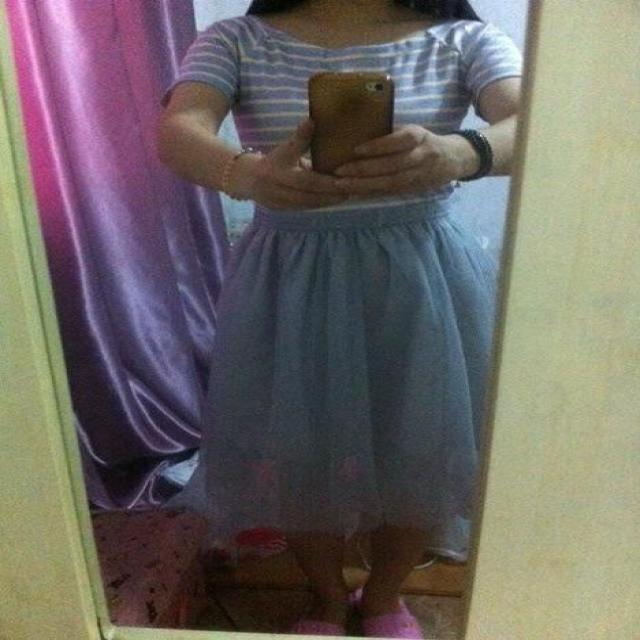short sleeve dress: (165, 16, 522, 535)
